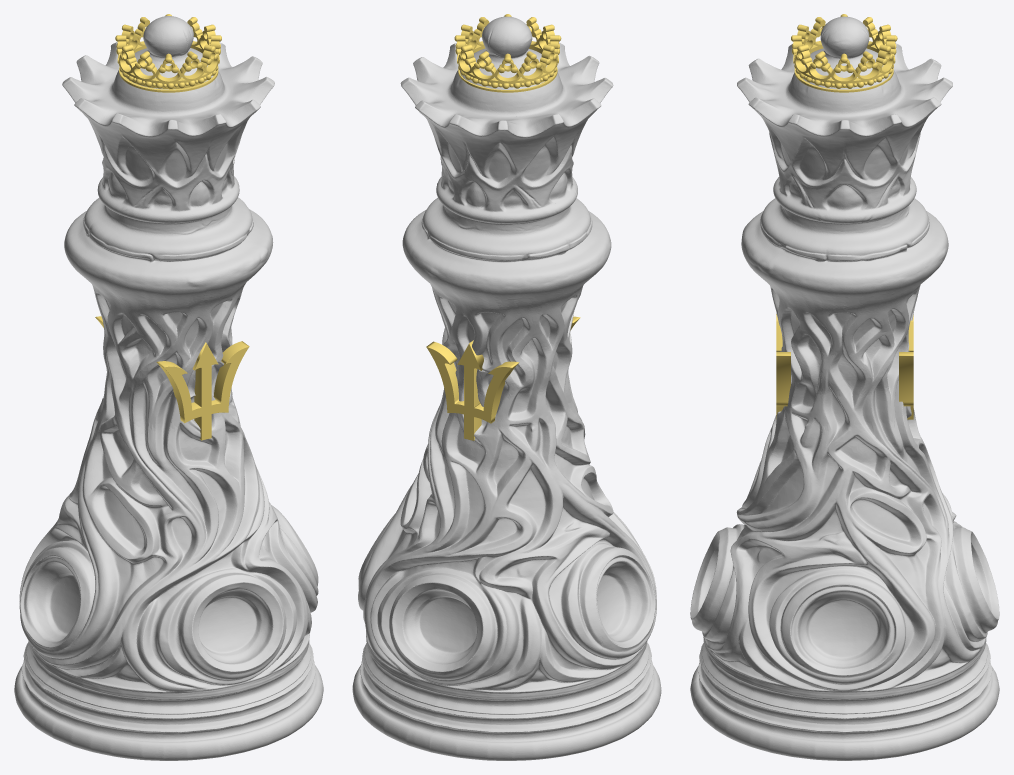
File: Queen - Prime Minister.glb
3 views of the same model, side by side, from view 1: azimuth 30°, elevation 25°; view 2: azimuth 150°, elevation 25°; view 3: azimuth 270°, elevation 25° (orthographic).
Visible parts, largest first — view 1: Queen_PM, uploads-files-3670002-CROWNRING.003, Curve.002; view 2: Queen_PM, uploads-files-3670002-CROWNRING.003, Curve.003; view 3: Queen_PM, uploads-files-3670002-CROWNRING.003, Curve.003, Curve.002.
Part boxes in pixels (x1,y1,x2,y2): Queen_PM: (14, 16, 323, 760); uploads-files-3670002-CROWNRING.003: (115, 14, 221, 92); Curve.002: (156, 341, 249, 440); Queen_PM: (352, 16, 661, 760); uploads-files-3670002-CROWNRING.003: (454, 14, 561, 92); Curve.003: (426, 340, 519, 440); Queen_PM: (690, 16, 999, 760); uploads-files-3670002-CROWNRING.003: (791, 14, 897, 92); Curve.003: (899, 315, 913, 419); Curve.002: (776, 314, 790, 419).
Bounding box in the file's own units: 0.5231 × 1.27 × 0.5228.
